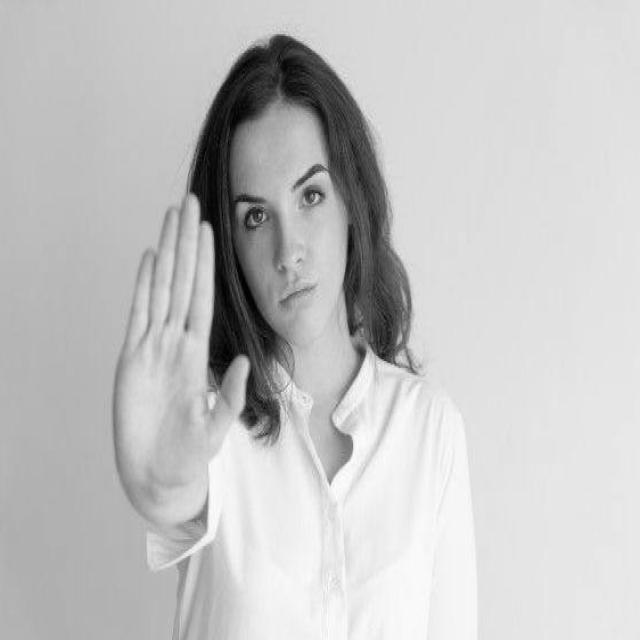stop: (108, 181, 253, 510)
